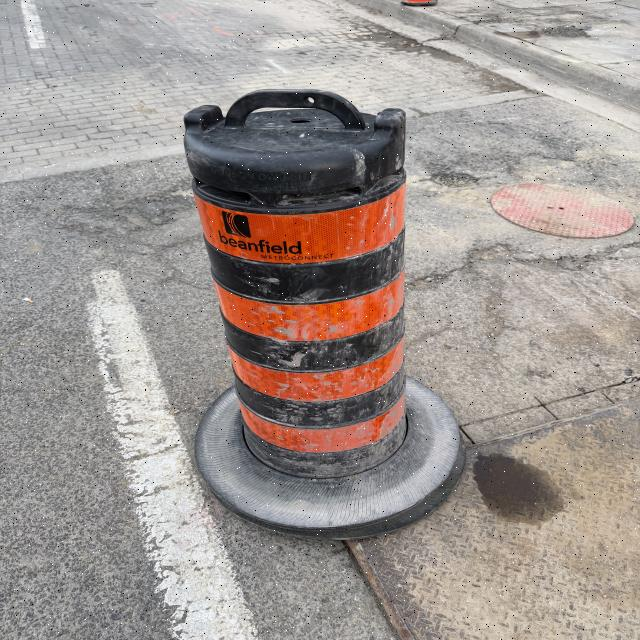Teraffic Barrel: (184, 90, 463, 538), (401, 0, 438, 6)
